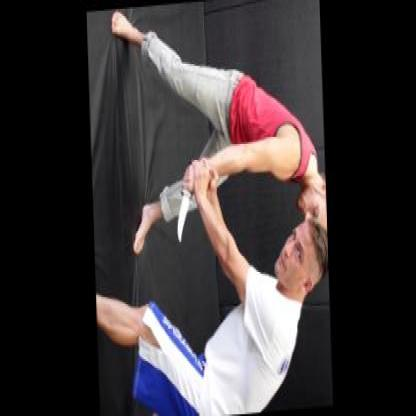knife: (172, 158, 194, 245)
